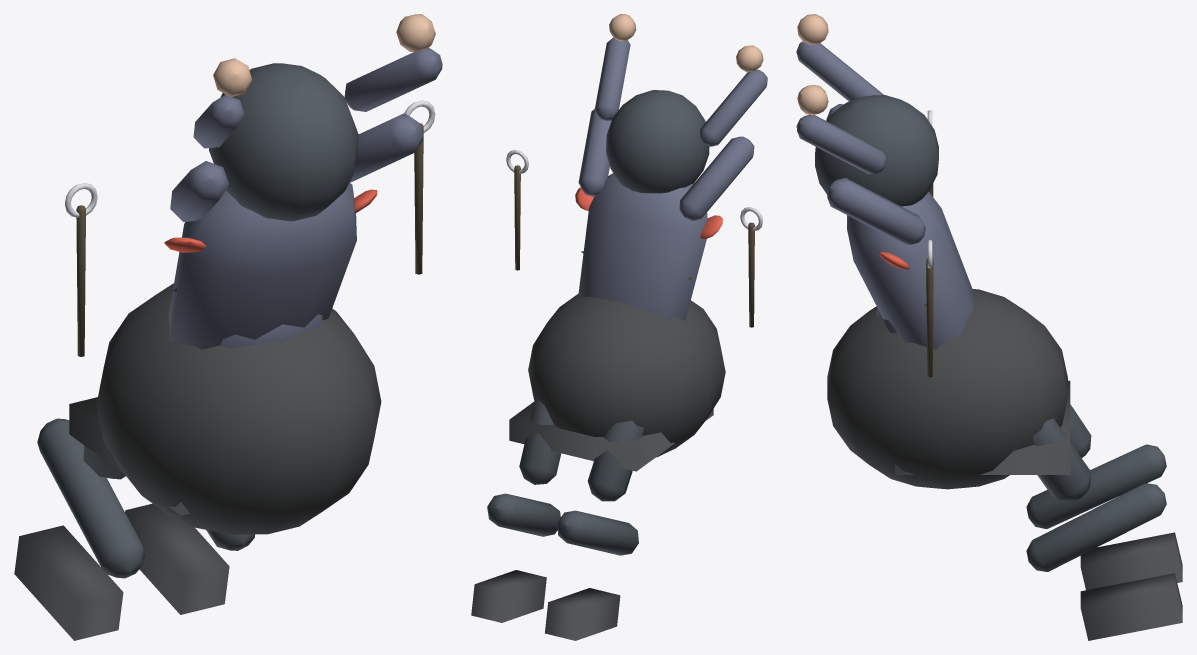
File: pilot.glb
3 views of the same model, side by side, from view 1: azimuth 30°, elevation 25°; view 2: azimuth 150°, elevation 25°; view 3: azimuth 270°, elevation 25° (orthographic). The views are drawn at different scales.
Visible parts, largest first — view 1: Boot_L; view 2: Boot_L; view 3: Boot_L.
Boxes of the visible parts, x1,y1,x2,y2 form: Boot_L: (14,14,442,640); Boot_L: (471,14,767,640); Boot_L: (796,14,1182,640).
Bounding box in the file's own units: 0.768 × 1.41 × 0.8813.
Materials: 2 (2 with a texture image).
